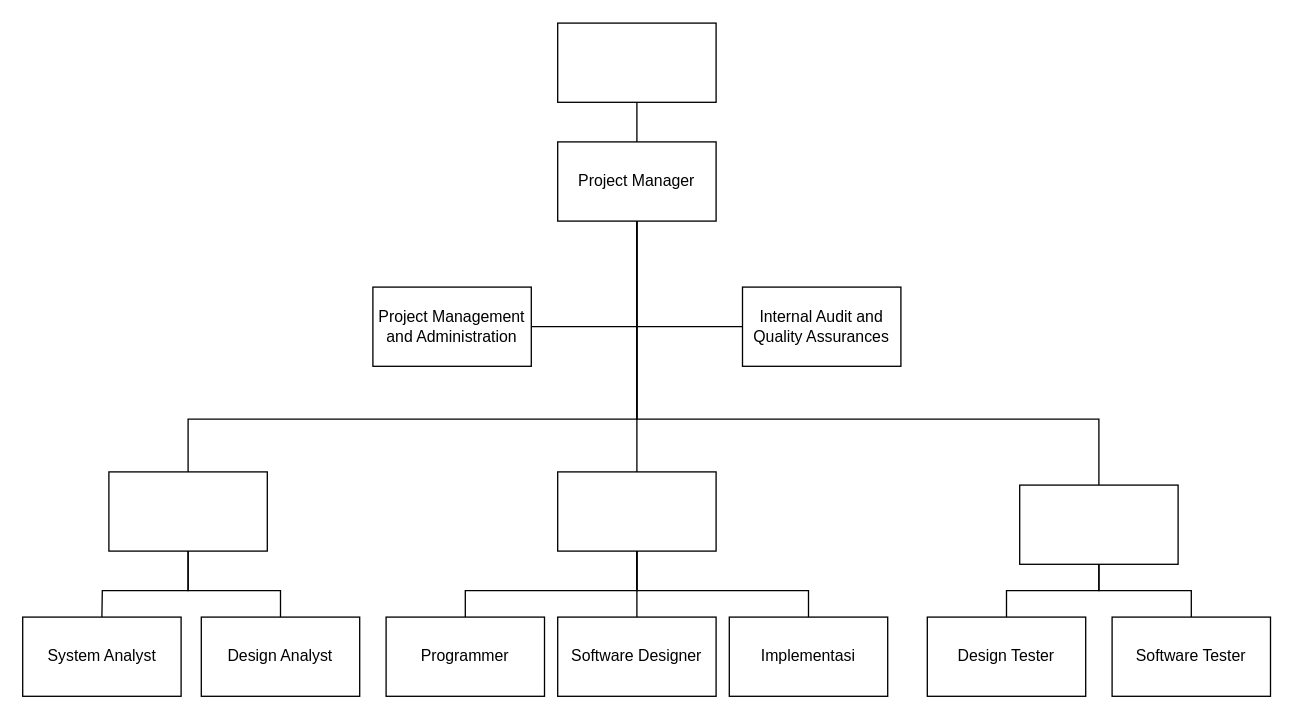
Some shapes in this 1295 by 719 pixel diagram are drawn without their labels. The shapes that lost their labels are listed below. From the top down, each one's centre as x and y in pixels, then its label:
(x=636, y=62): Project Sponsor
(x=187, y=511): Software System Division
(x=636, y=511): Software Developer Division
(x=1098, y=524): Software Management Division
